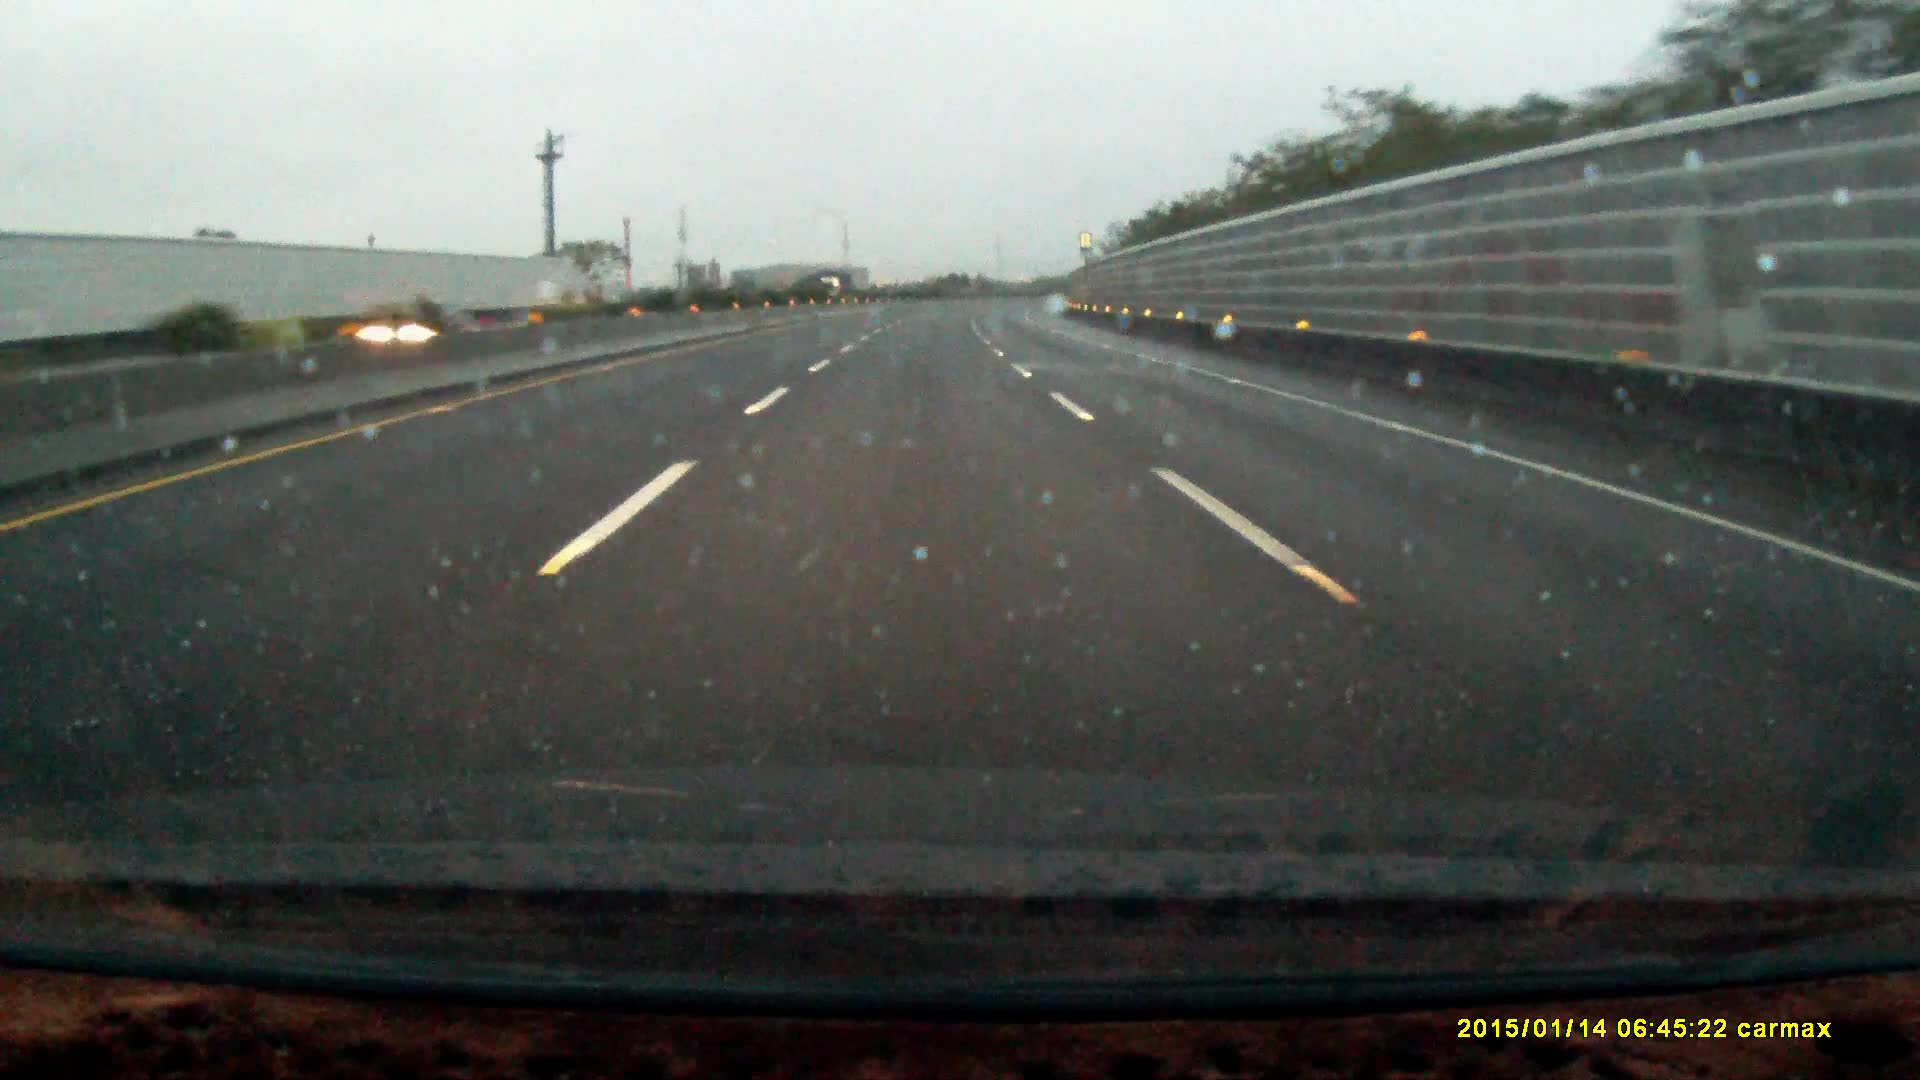vehicle: (352, 298, 476, 367), (818, 268, 853, 305)
